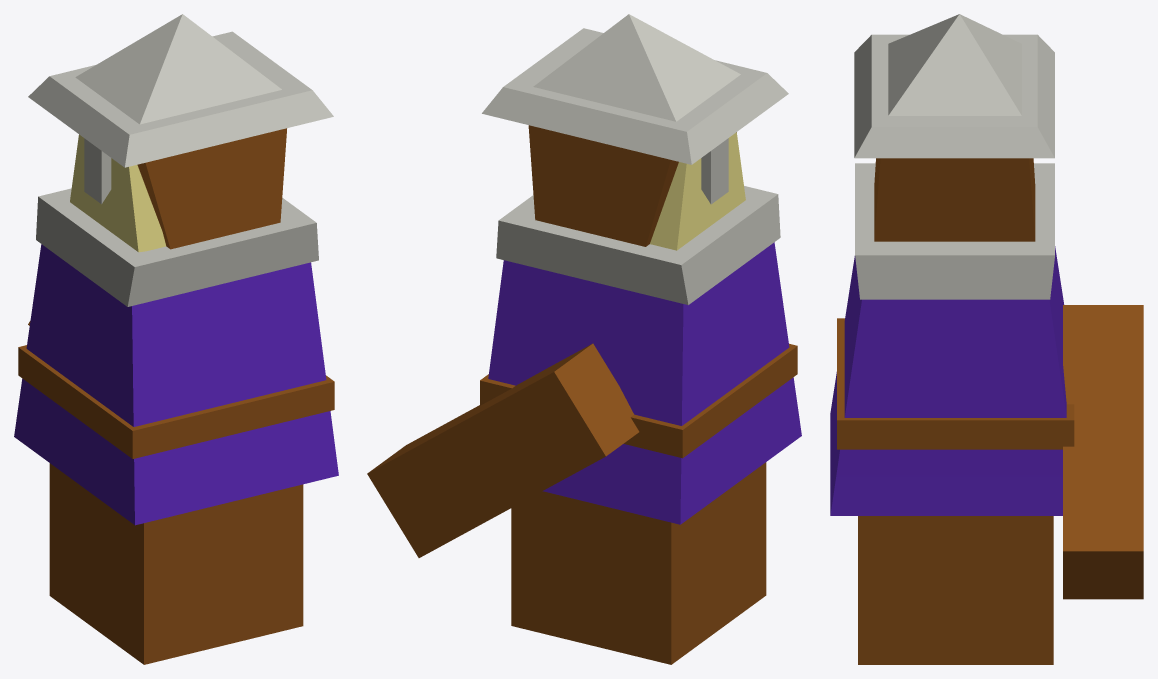
The model's file is archer_general.fbx.
The picture shows the model from 3 angles, left to right: view 1: azimuth 30°, elevation 25°; view 2: azimuth 150°, elevation 25°; view 3: azimuth 270°, elevation 25°; orthographic projection. The views are drawn at different scales.
Visible parts, largest first — view 1: polySurface148; view 2: polySurface148; view 3: polySurface148.
Boxes of the visible parts, x1,y1,x2,y2 form: polySurface148: (14,14,338,664); polySurface148: (367,14,801,664); polySurface148: (830,14,1143,664).
Bounding box in the file's own units: 18.6 × 37.41 × 17.27.
Materials: 1 (1 with a texture image).
